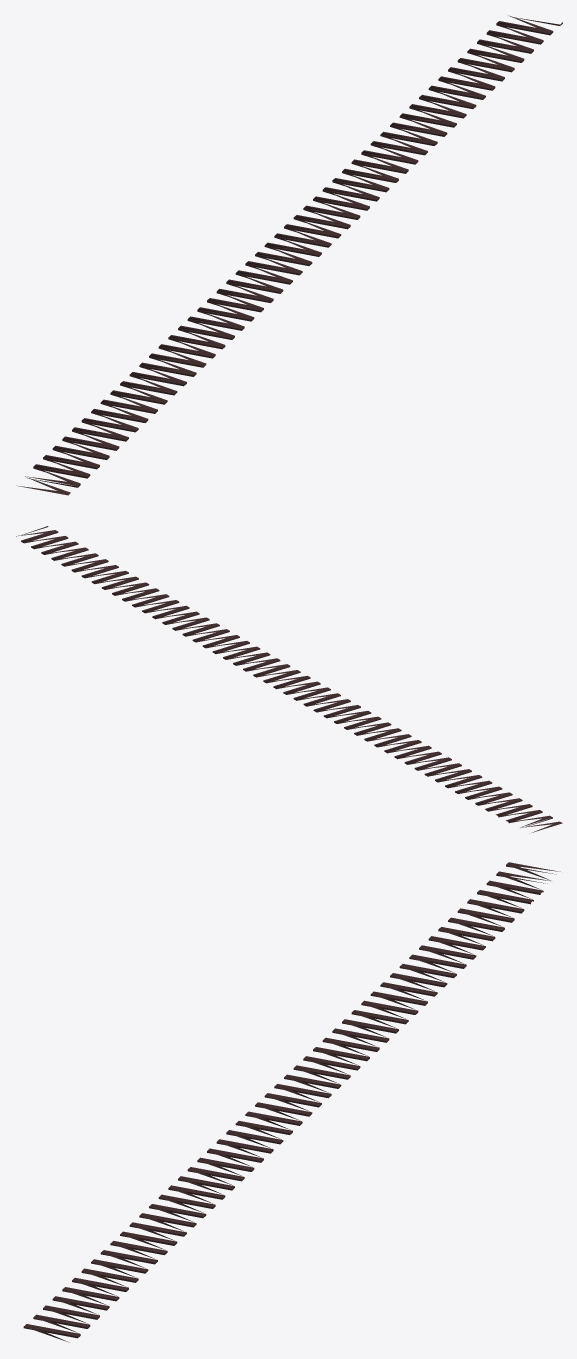
3 views of the same model, one above another, from view 1: azimuth 90°, elevation 25°; view 2: azimuth 150°, elevation 25°; view 3: azimuth 270°, elevation 25° (orthographic). The views are drawn at different scales.
Size of the model in its own units: 40.97 by 0.064 by 19.76.
